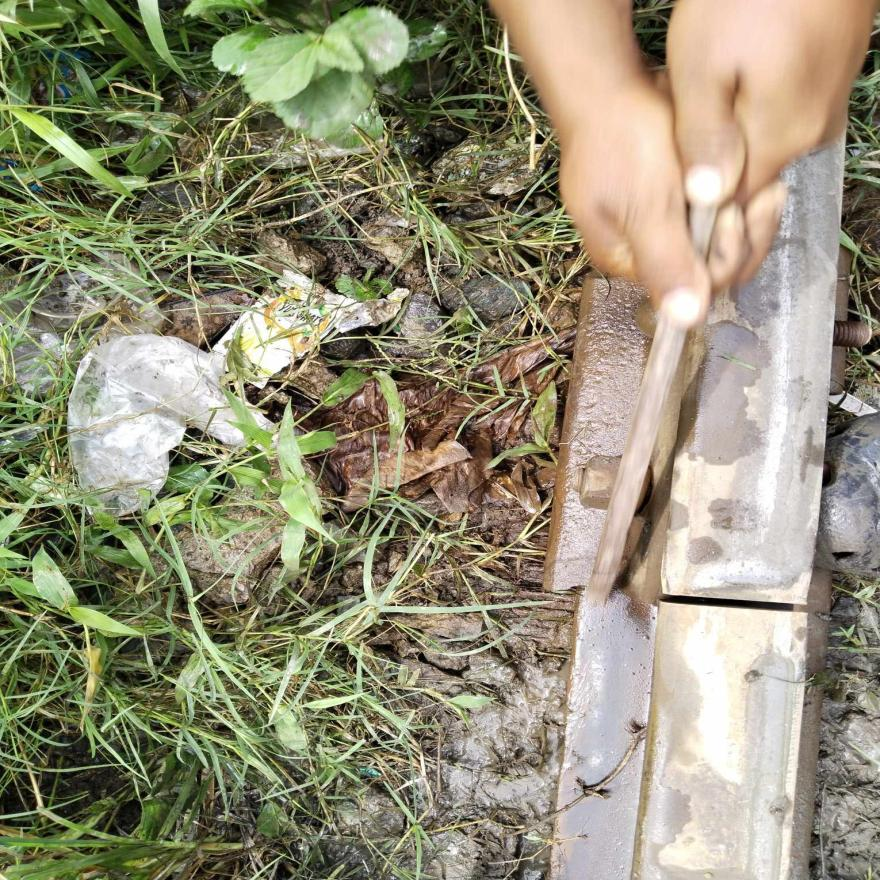railway-gap: (634, 533, 835, 682)
